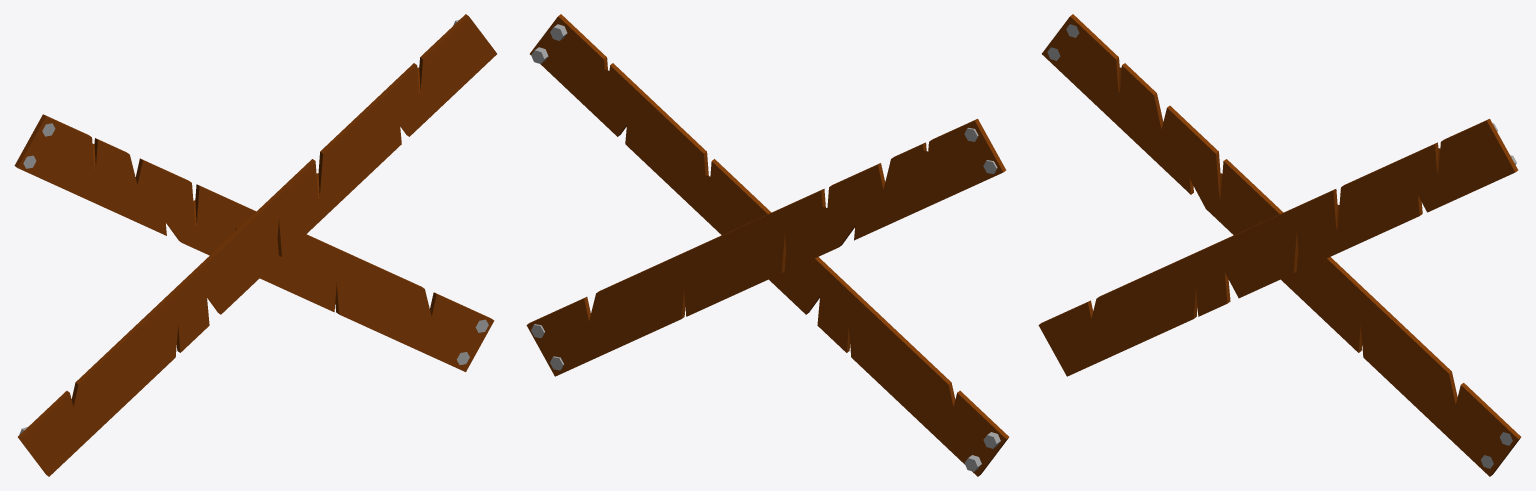
File: barrage.fbx
3 renders of one model, left to right at view 1: azimuth 30°, elevation 25°; view 2: azimuth 150°, elevation 25°; view 3: azimuth 330°, elevation 25°, orthographic.
Visible parts, largest first — view 1: barrage; view 2: barrage; view 3: barrage.
Part boxes in pixels (x1=…): barrage: x1=14, y1=14, x2=496, y2=476; barrage: x1=526, y1=14, x2=1008, y2=476; barrage: x1=1038, y1=14, x2=1520, y2=476.
Size of the model in its own units: 98.53 by 70.74 by 2.6.
